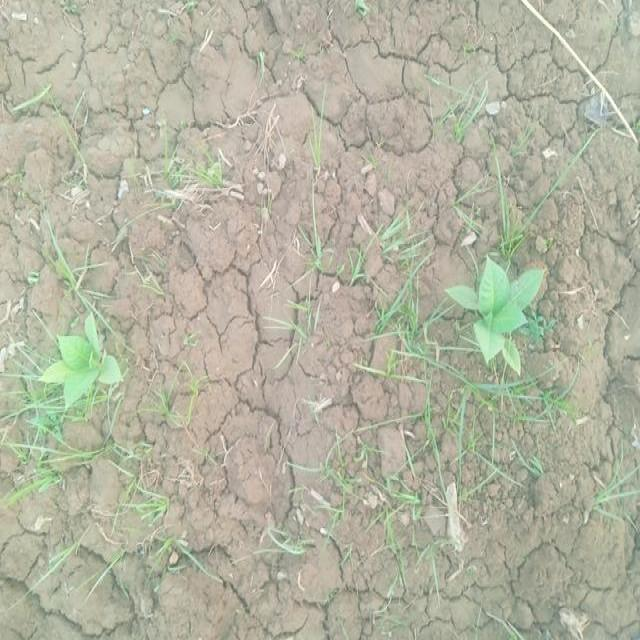crop: (446, 250, 548, 380), (31, 312, 123, 413)
